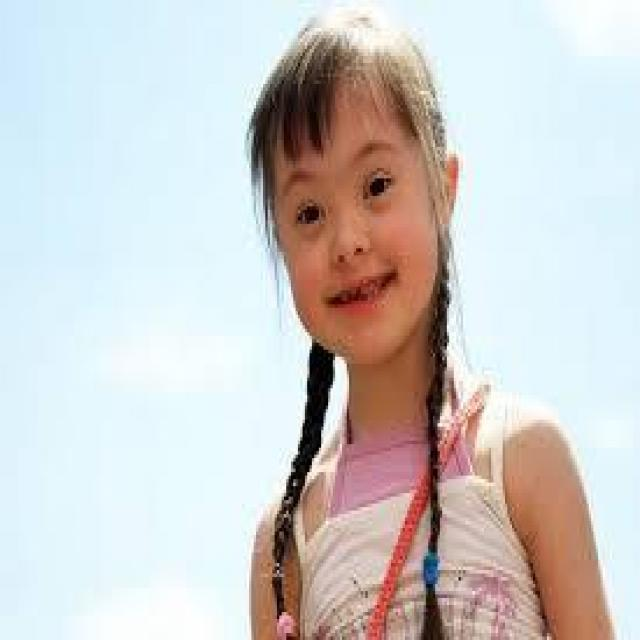person: (242, 14, 624, 636)
